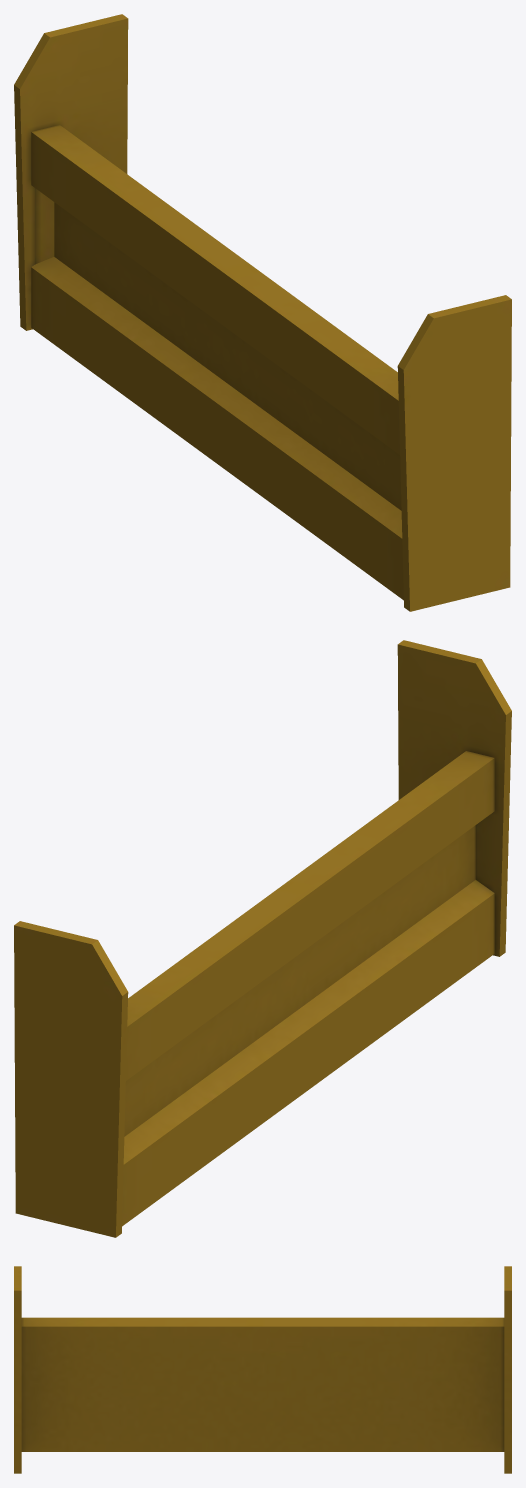
Rendered from c30r-vessel2.dae.
3 views of the same model, one above another, from view 1: azimuth 30°, elevation 25°; view 2: azimuth 150°, elevation 25°; view 3: azimuth 270°, elevation 25° (orthographic). The views are drawn at different scales.
Parts seen in each view (by area): view 1: vessel2; view 2: vessel2; view 3: vessel2.
Boxes of the visible parts, x1,y1,x2,y2 form: vessel2: (14,14,511,611); vessel2: (14,640,511,1237); vessel2: (14,1266,511,1473).
Bounding box in the file's own units: 0.2193 × 1.37 × 0.557.
1 material, 1 textured.
